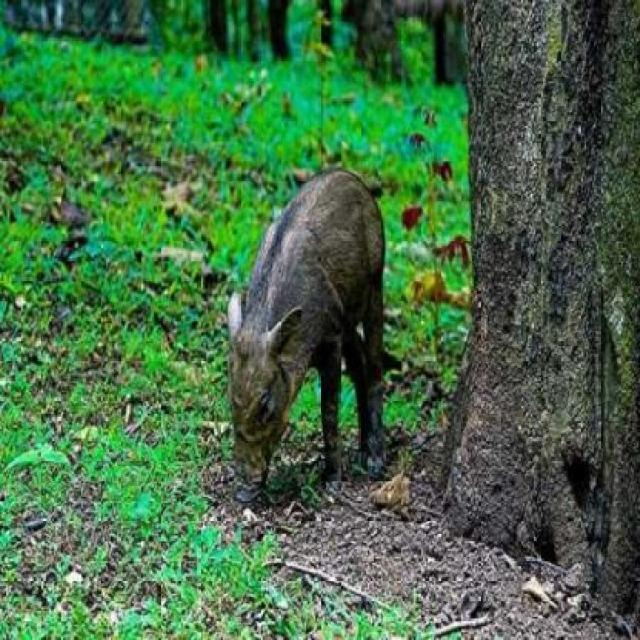pig: (168, 140, 418, 516)
